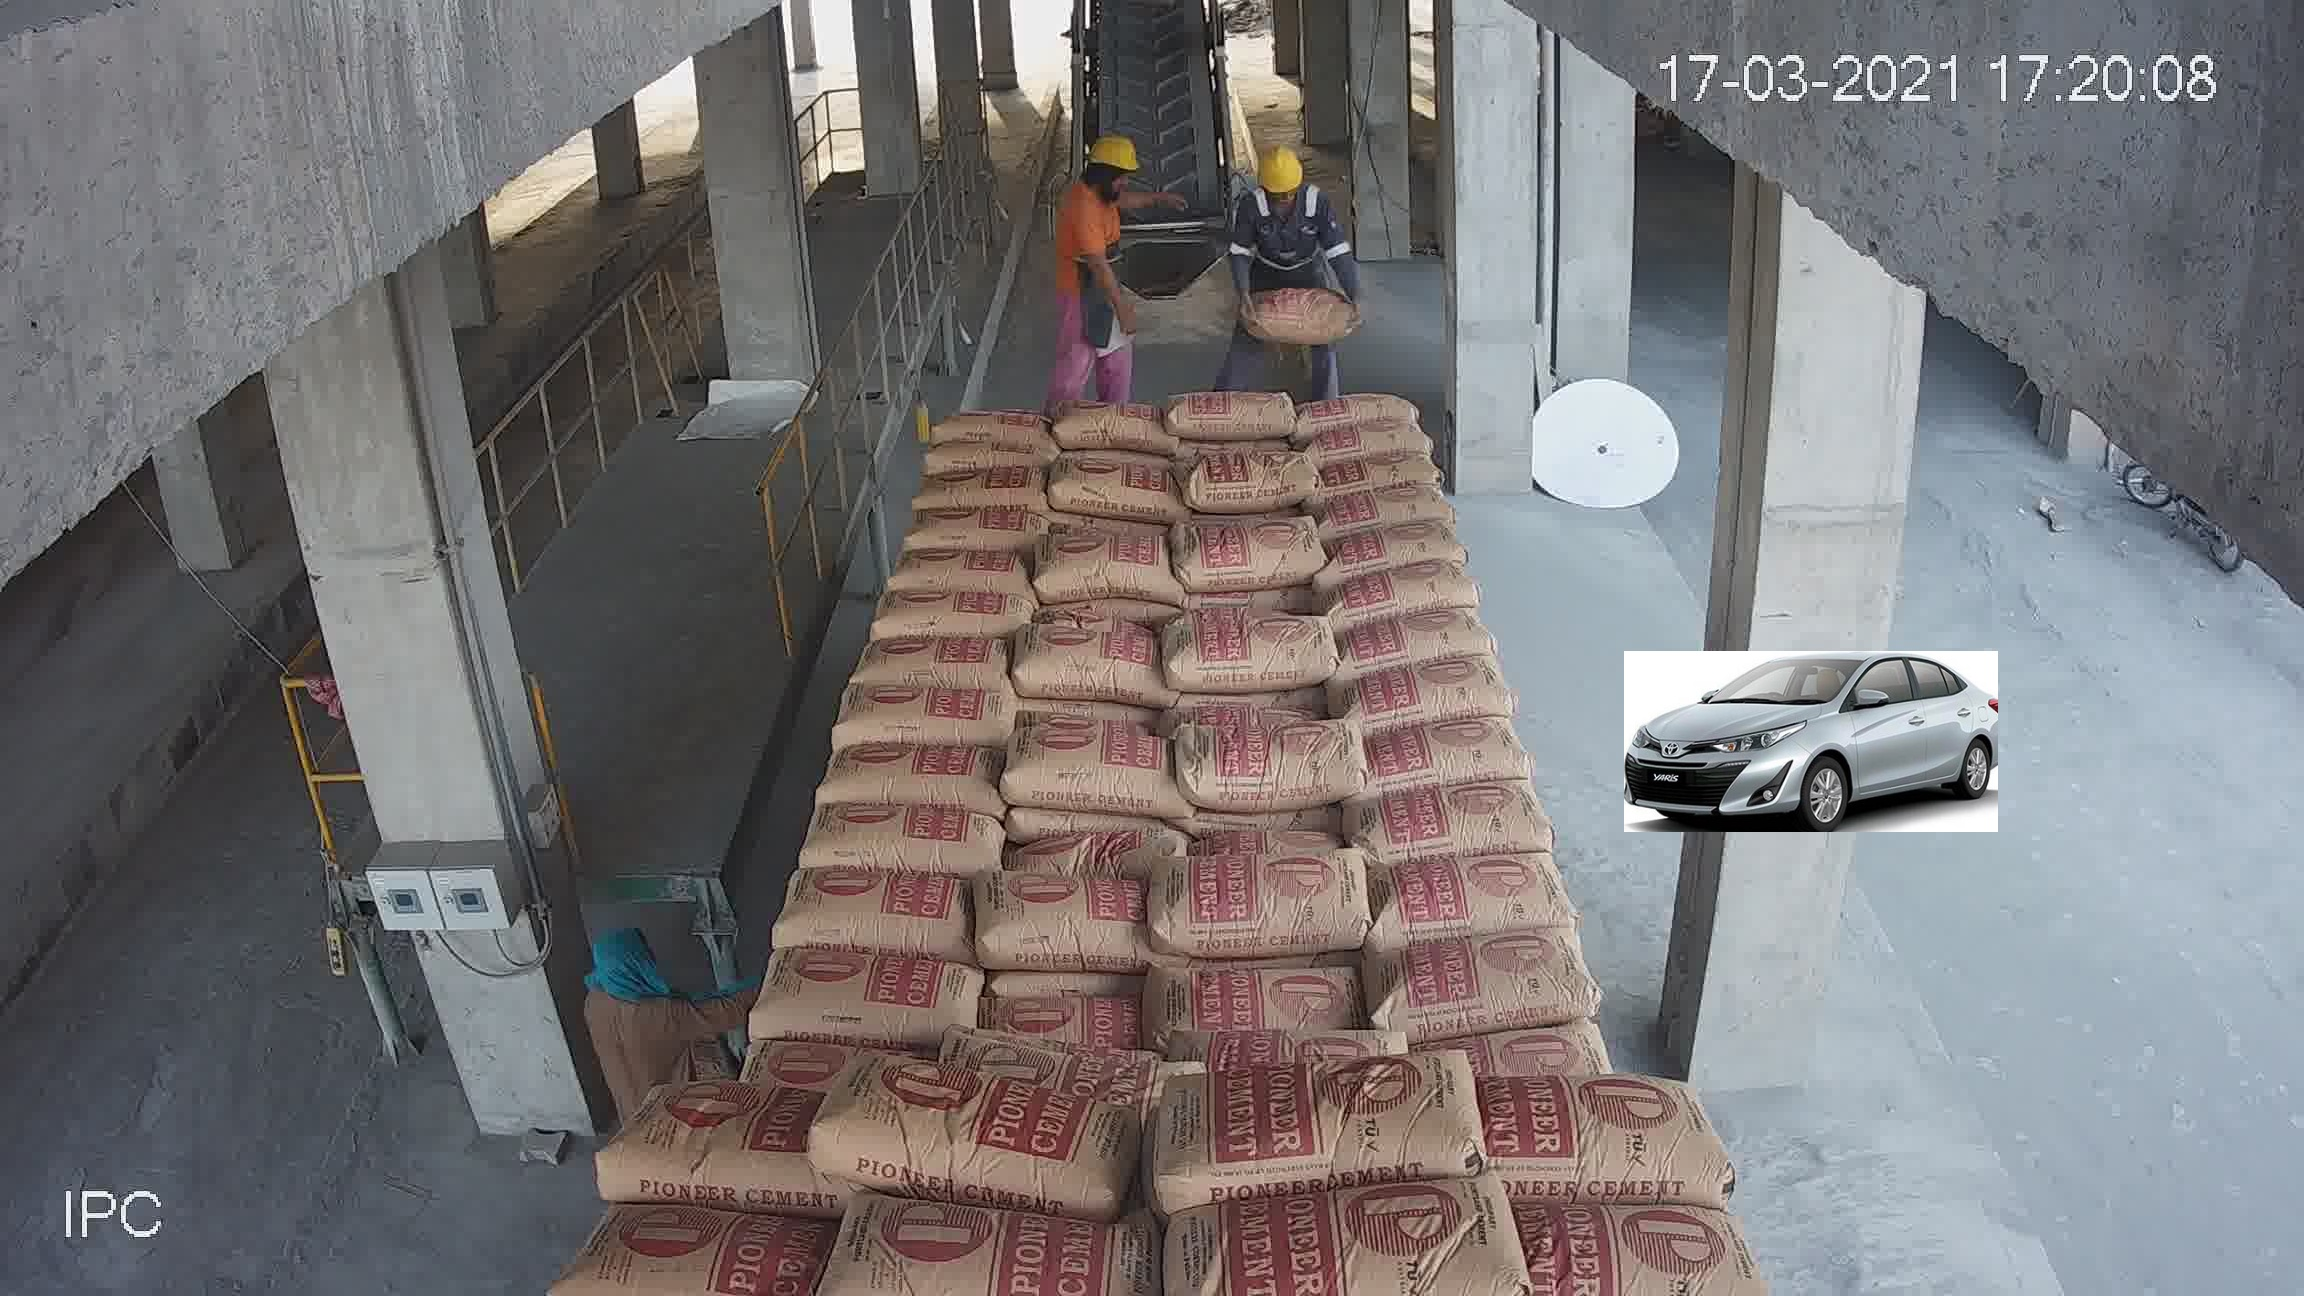bag: (1081, 274, 1237, 427)
bag_h: (623, 949, 881, 1090), (579, 1086, 791, 1225)
belt: (991, 5, 1313, 554)
